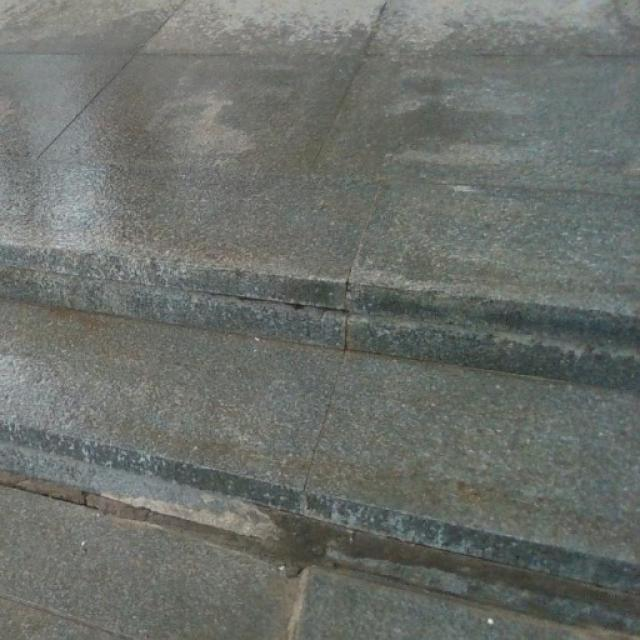Stairs: (0, 68, 639, 639)
